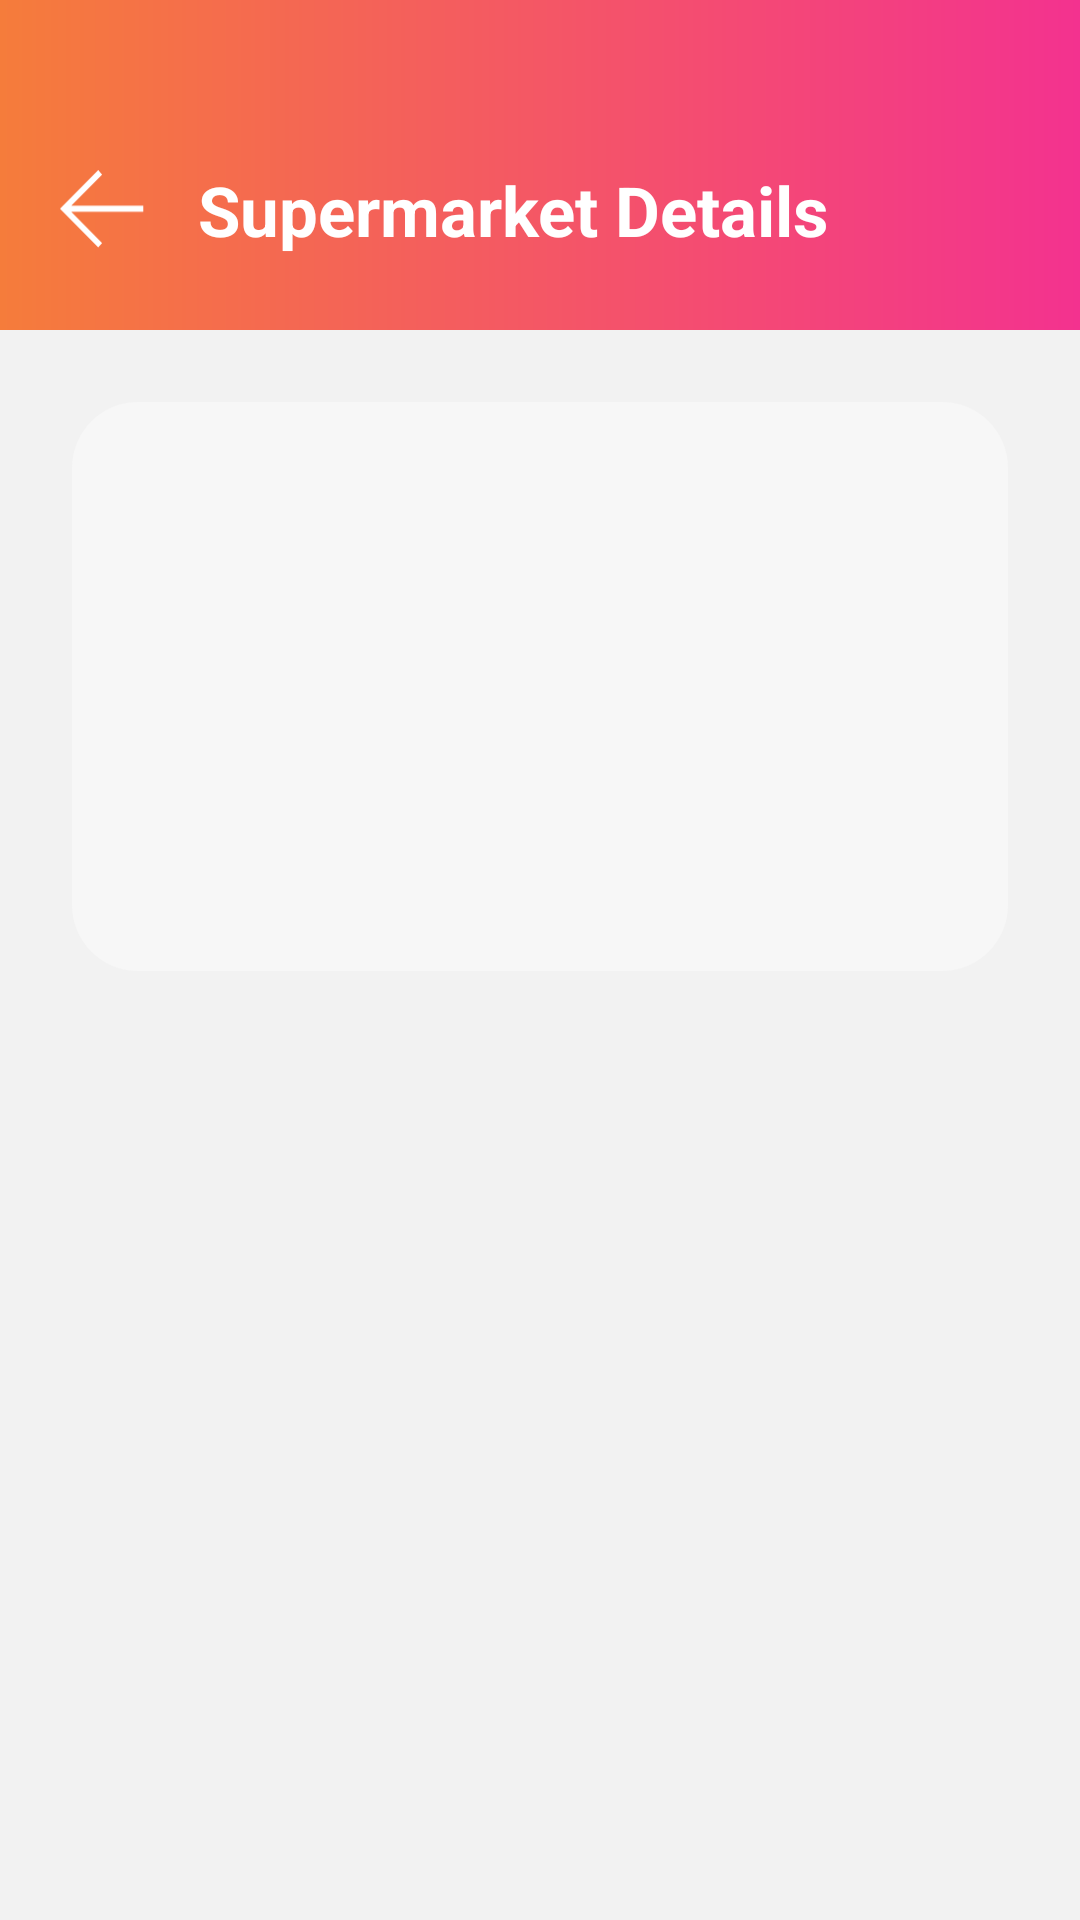

Screen size 1080px x 1920px. Icon name, then its center in pixels as (x=x, y=y):
arrow back: (x=102, y=209)
